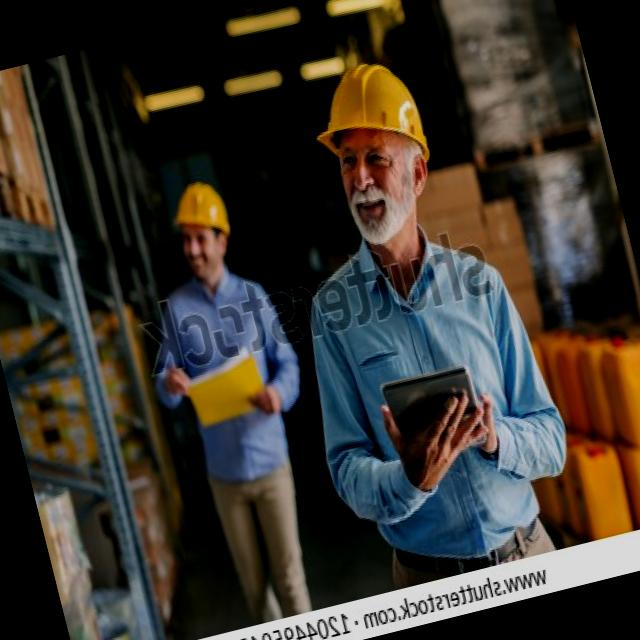helmet: (298, 45, 441, 188), (162, 174, 231, 246)
no-goggles: (334, 138, 412, 193), (172, 219, 220, 255)
no-vest: (298, 210, 556, 562), (142, 264, 321, 508)
